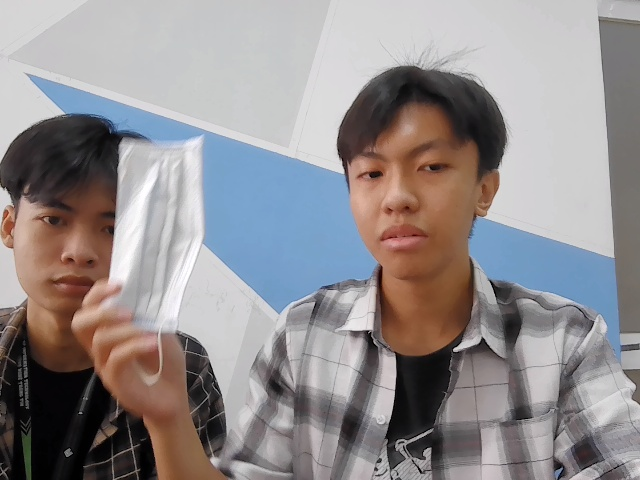human: (332, 67, 511, 284), (9, 102, 113, 311)
mask: (93, 129, 216, 339)
